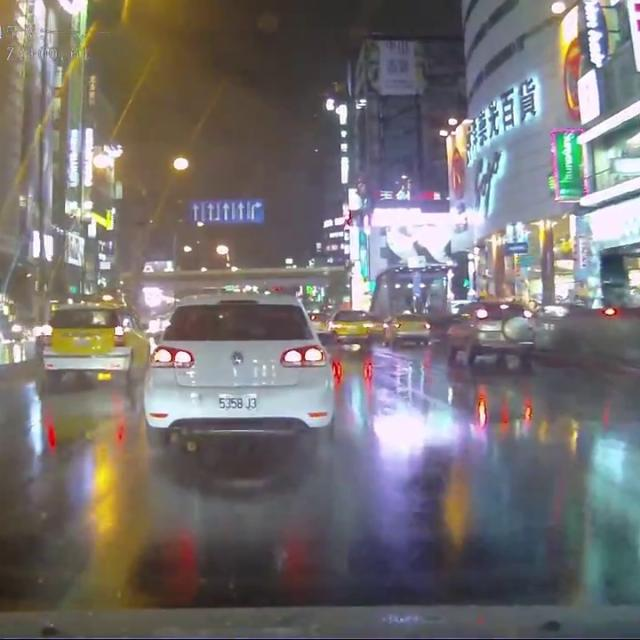Car: (140, 288, 336, 435), (37, 300, 145, 386), (439, 300, 538, 366), (379, 311, 432, 348), (331, 310, 376, 341), (303, 312, 328, 338)
